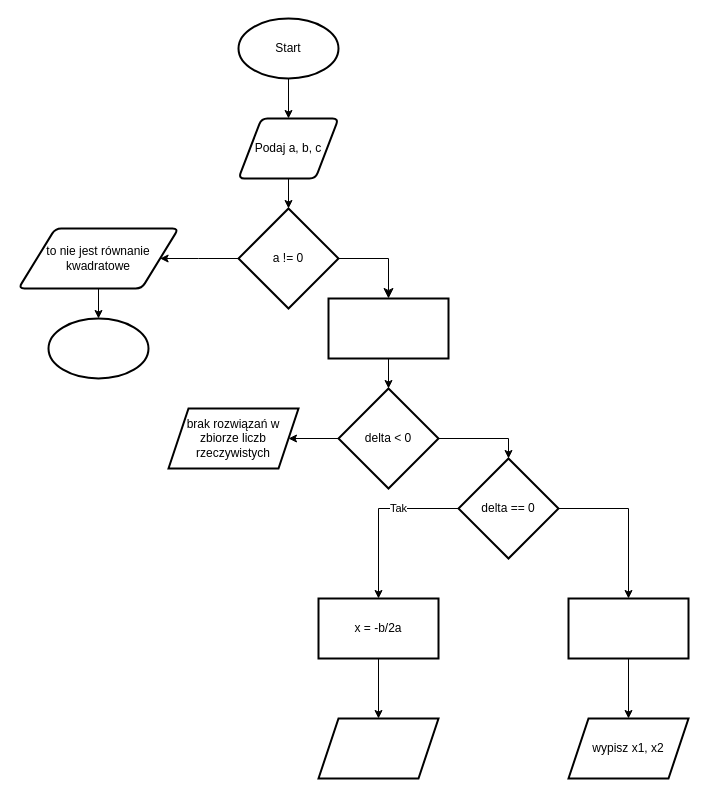
The diagram is 706 pixels wide and 796 high, and some of its shapes have lost their labels. The centre of each missing label's shape, as x and y in pixels:
"delta = b*b - 4*a*c" belongs at (x=388, y=328).
"stop" belongs at (x=98, y=348).
"wypisz x" belongs at (x=378, y=748).
"x1 = -b-sqrt(delta)/2a x2 = -b+sqrt(delta)/2a" belongs at (x=628, y=628).
